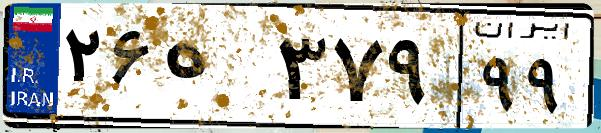2: (57, 26, 110, 100)
3: (270, 28, 330, 110)
6: (110, 28, 158, 98)
7: (330, 28, 385, 110)
9: (385, 28, 445, 110), (475, 38, 525, 113), (525, 38, 570, 115)
ه: (158, 20, 270, 120)
